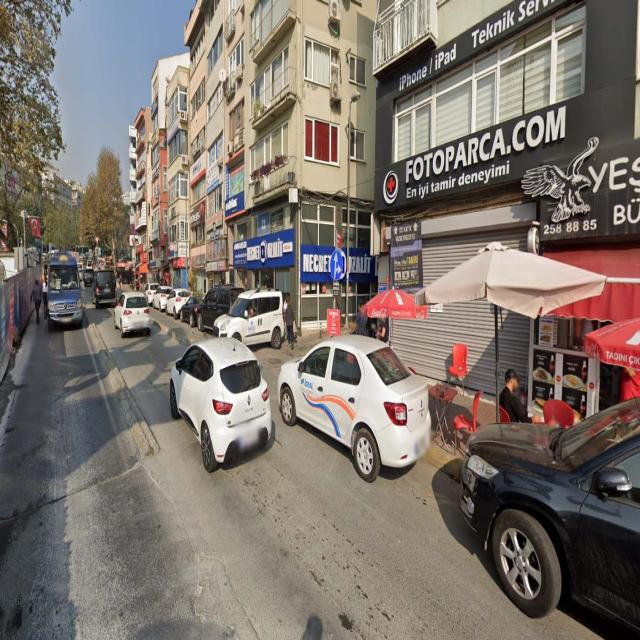ilerisag: (330, 251, 343, 281)
